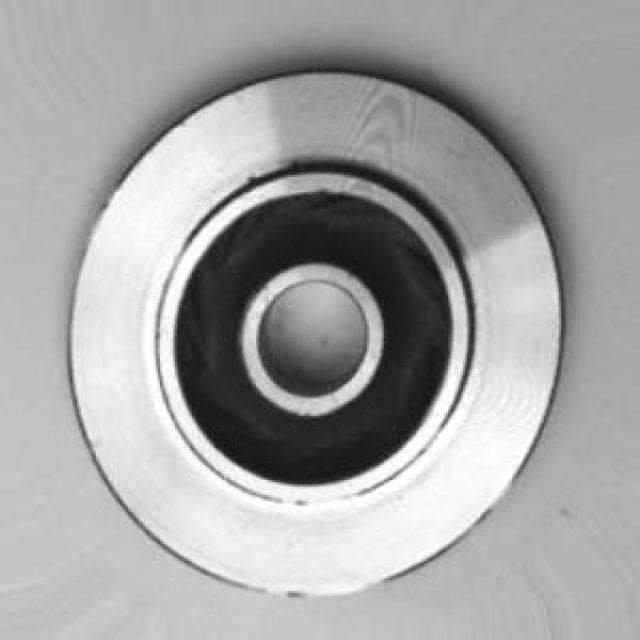Defect: (279, 150, 308, 180)
